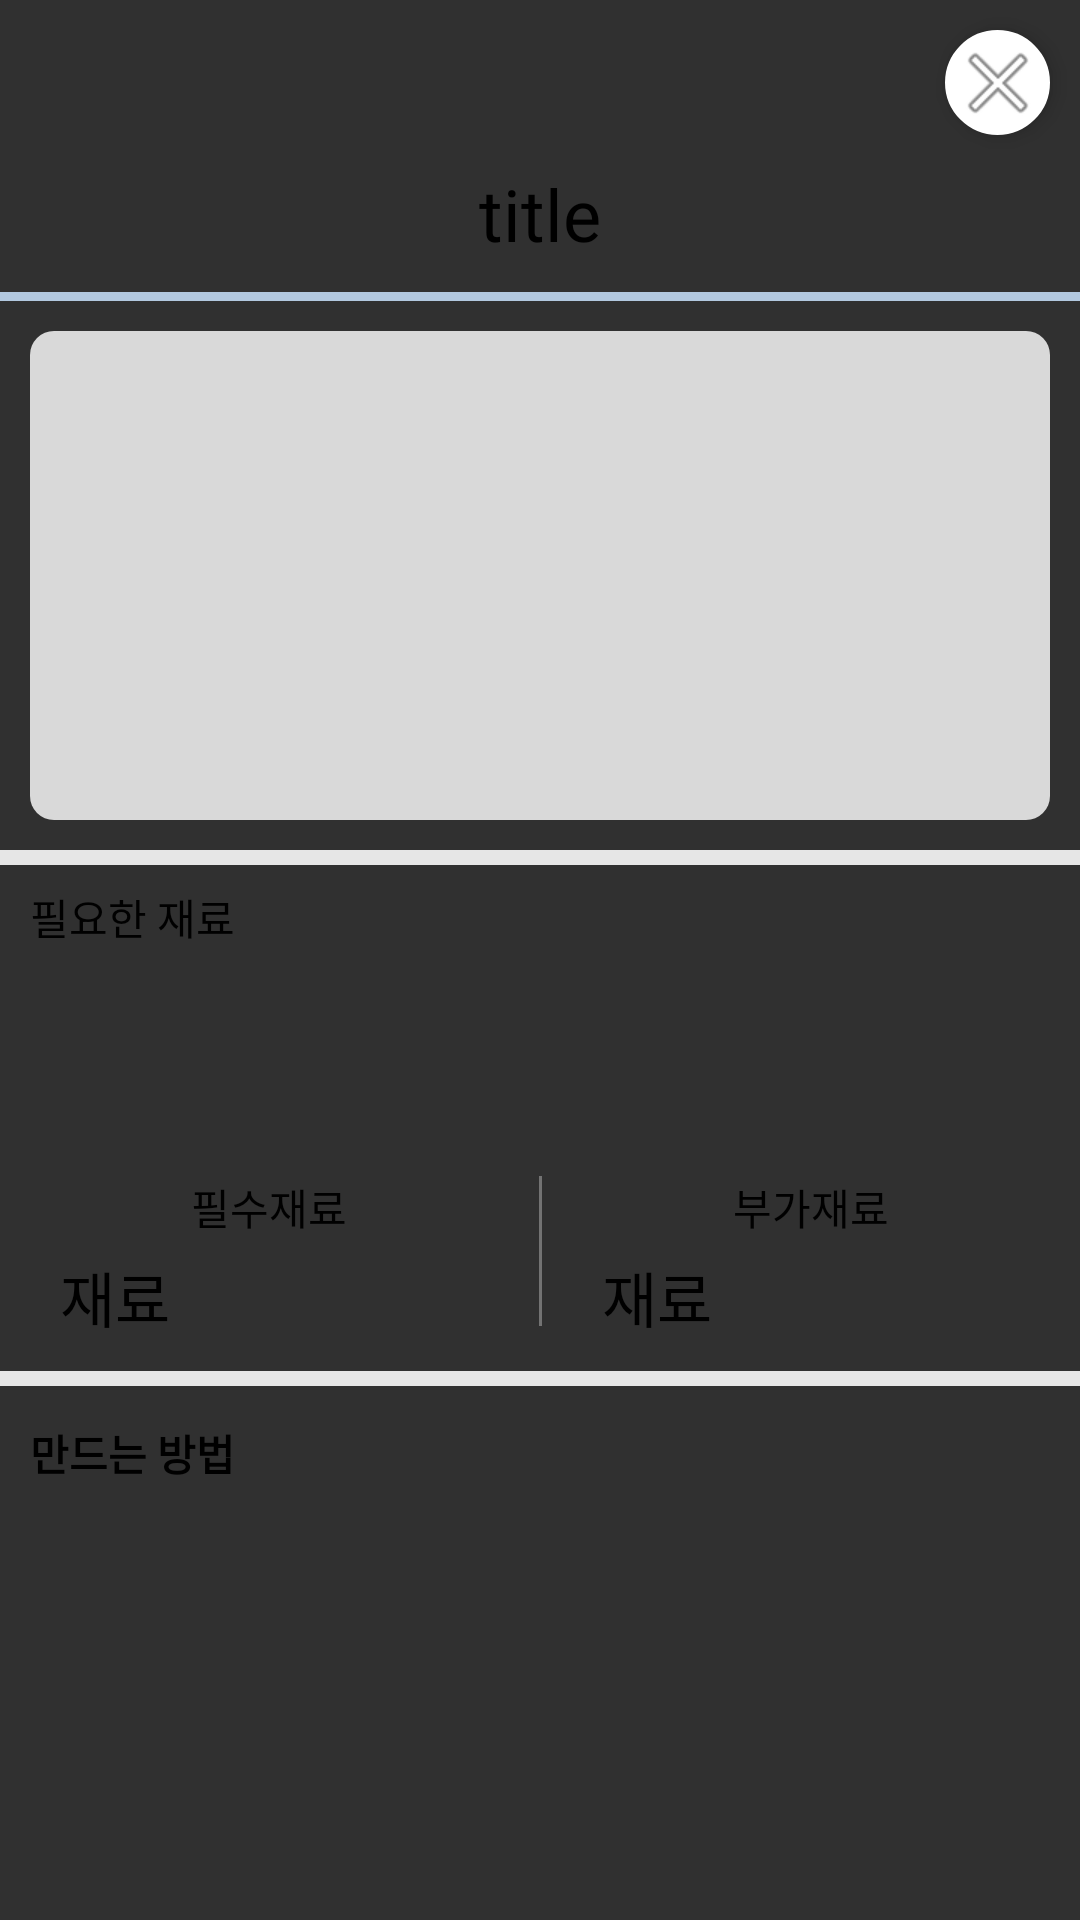

Screen size 1080px x 1920px. Icon name, then its box in pixels as {"left": x1, "top": y1, "right": x2, "bottom": y2}:
close clear cancel: {"left": 945, "top": 30, "right": 1050, "bottom": 135}
